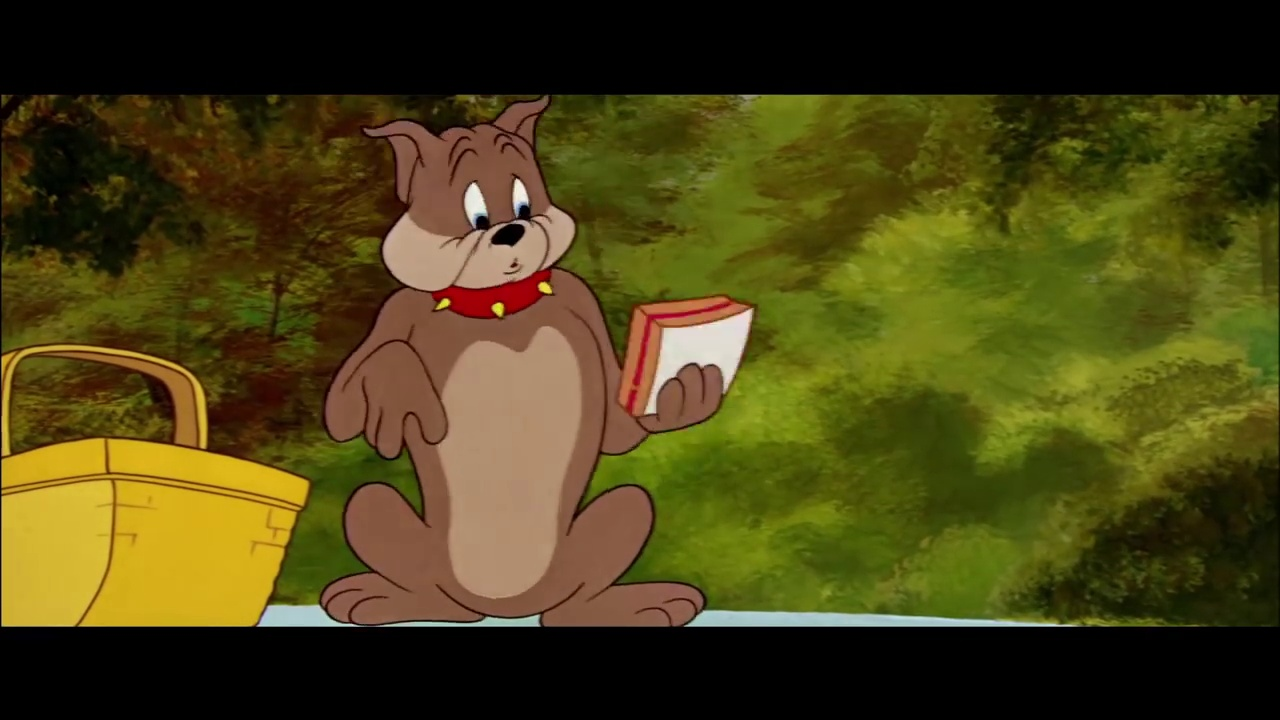spike: (361, 96, 592, 330)
